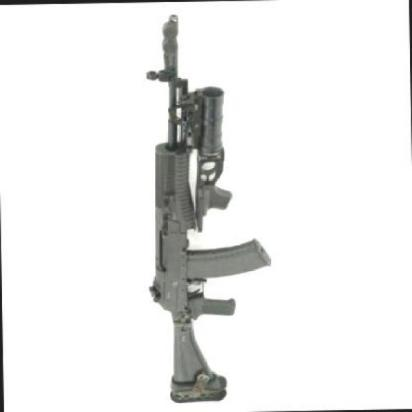Gun: (121, 6, 286, 405)
